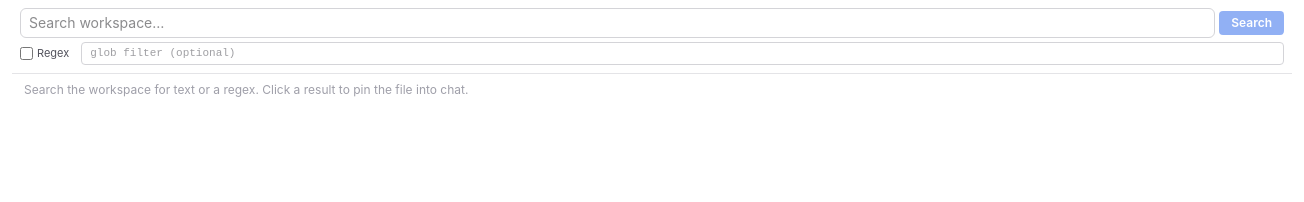
Test: CodeSearchPanel (#431) › runs a search and renders results grouped by file
Type "x" into the field named "Search query" at point(618, 23), box [20,8,1215,38]
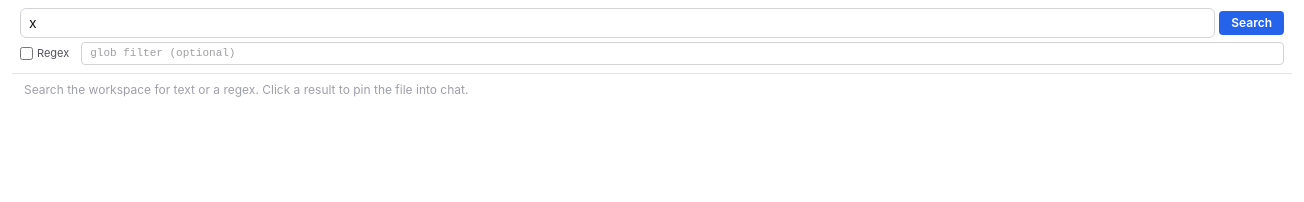
Click the button "Search" at point(1252, 23), box [1219,11,1284,35]
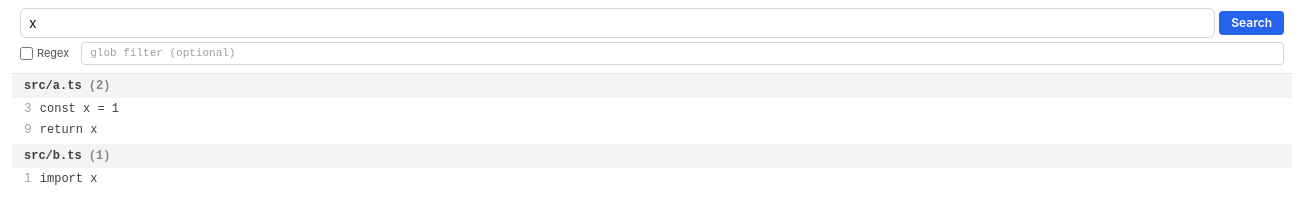
Check: the text "src/a.ts (2)" is shown, box [12,74,1292,98]
Check: the text "const x = 1" is shown, box [40,100,119,116]
Check: the text "src/b.ts (1)" is shown, box [12,144,1292,168]
